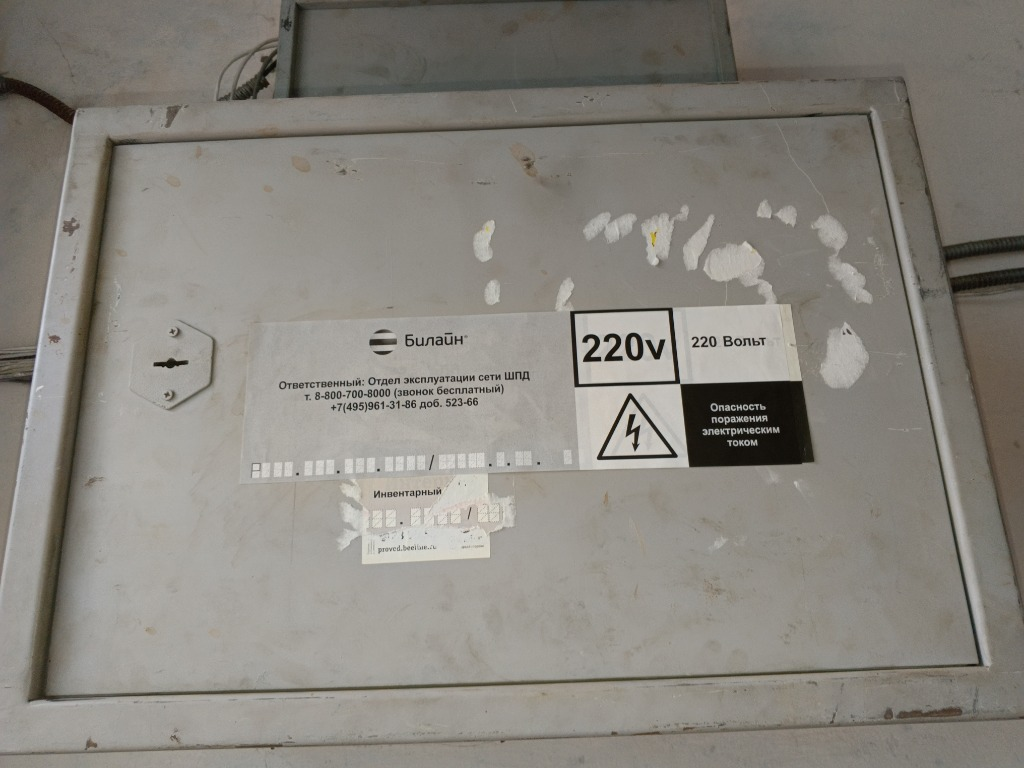e2-6u: (2, 71, 1020, 747)
